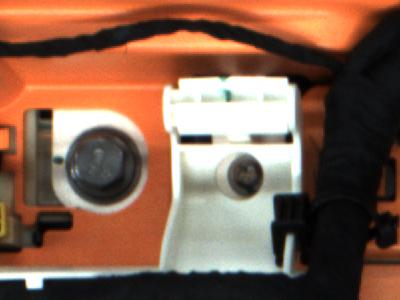nut_b: (63, 126, 142, 202)
